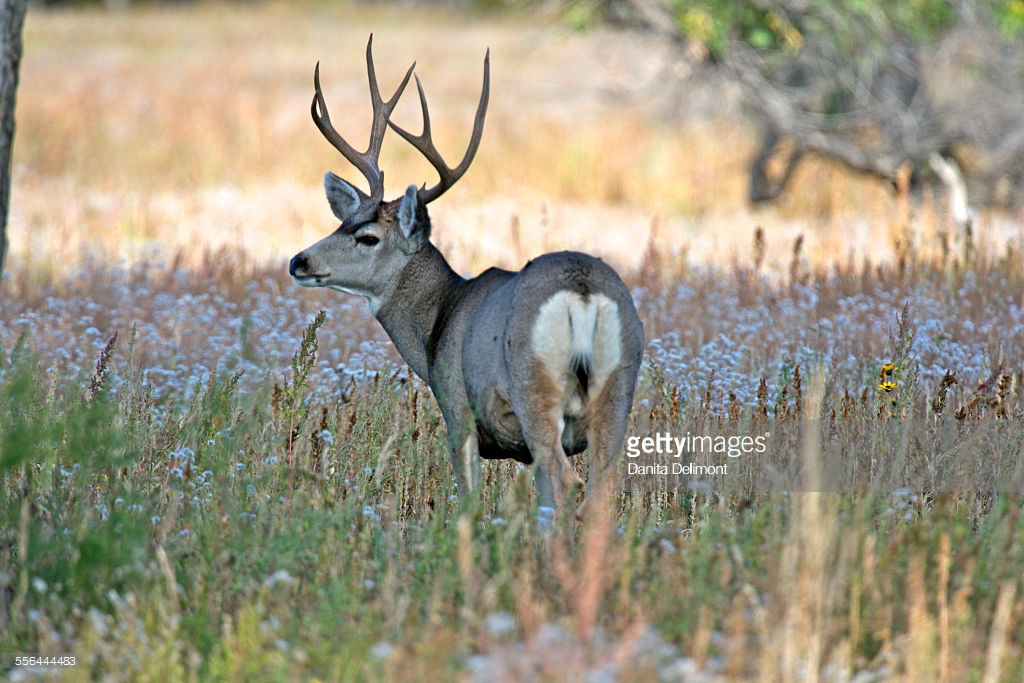Blackbuck: (279, 41, 652, 612)
